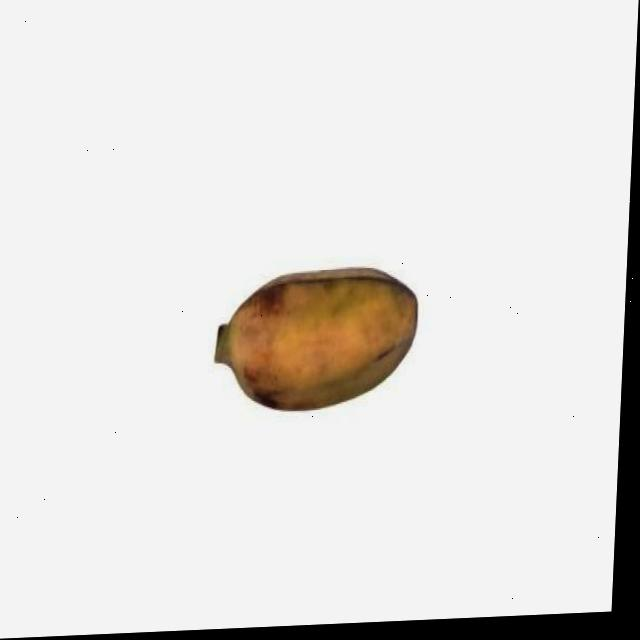banana: (209, 258, 425, 420)
